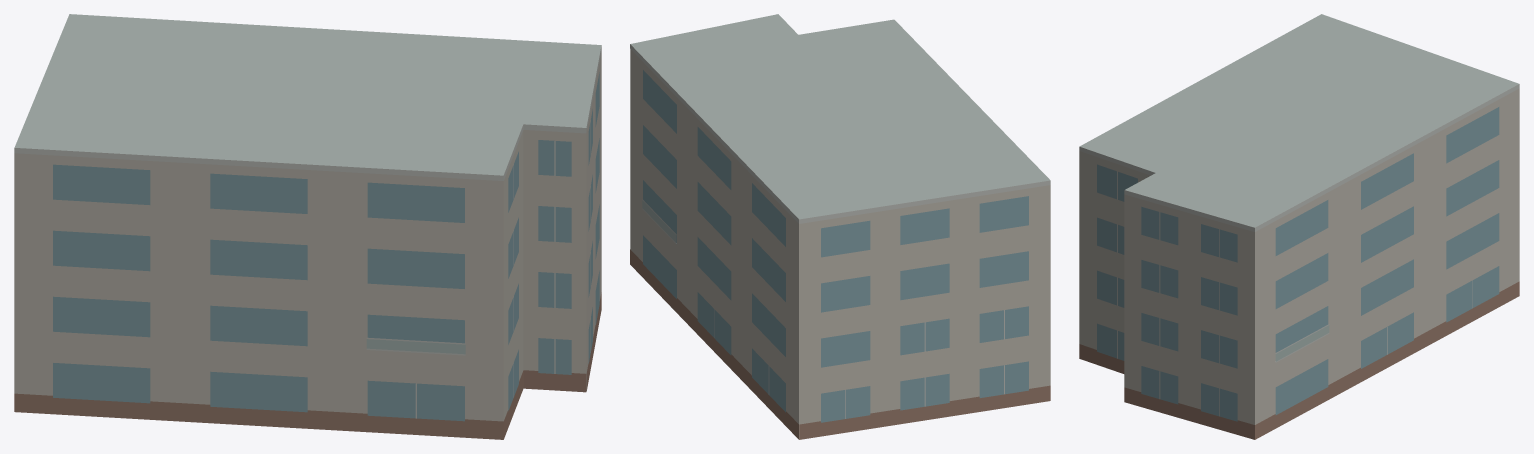
Rendered from survey-upis-32703717.glb.
3 renders of one model, left to right at view 1: azimuth 30°, elevation 25°; view 2: azimuth 150°, elevation 25°; view 3: azimuth 270°, elevation 25°, orthographic. The views are drawn at different scales.
Parts seen in each view (by area): view 1: survey-upis-32703717.tmp; view 2: survey-upis-32703717.tmp; view 3: survey-upis-32703717.tmp.
Part boxes in pixels (bbox=[...]): survey-upis-32703717.tmp: bbox=[14, 14, 601, 439]; survey-upis-32703717.tmp: bbox=[630, 14, 1050, 439]; survey-upis-32703717.tmp: bbox=[1079, 14, 1519, 439].
Size of the model in its own units: 25.51 by 11.8 by 22.2.
